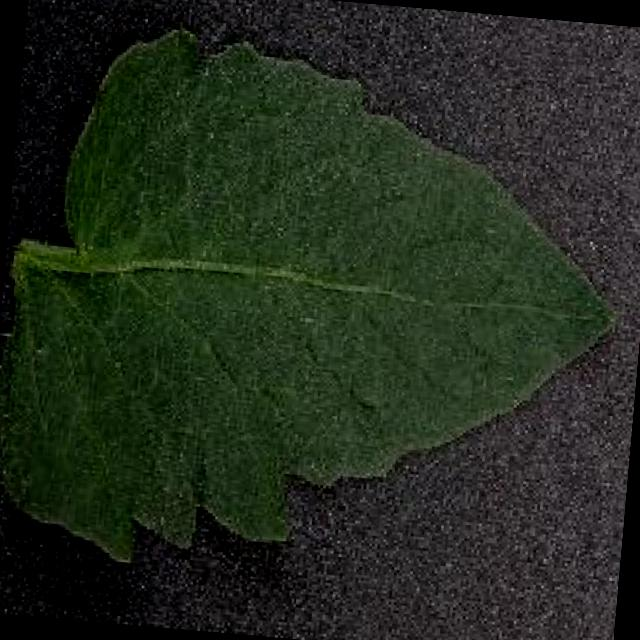healthy: (0, 12, 616, 562)
